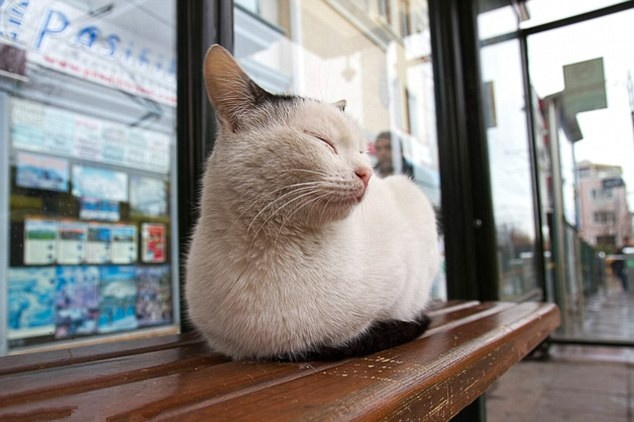cat: (183, 43, 441, 363)
